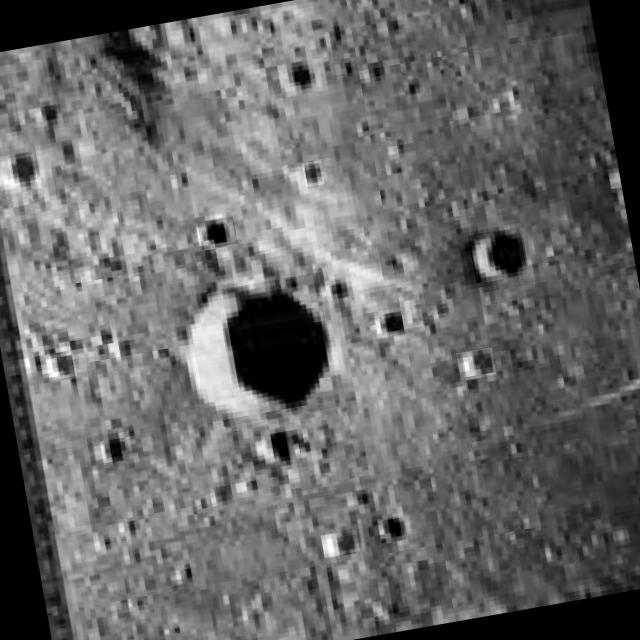crater: (185, 272, 341, 429), (468, 226, 527, 282), (272, 52, 318, 94), (261, 428, 302, 468), (196, 216, 238, 250), (456, 346, 496, 381), (92, 429, 130, 465), (320, 529, 360, 557), (8, 154, 38, 186), (48, 352, 77, 379), (378, 517, 406, 543), (378, 311, 403, 336), (302, 160, 324, 186)
